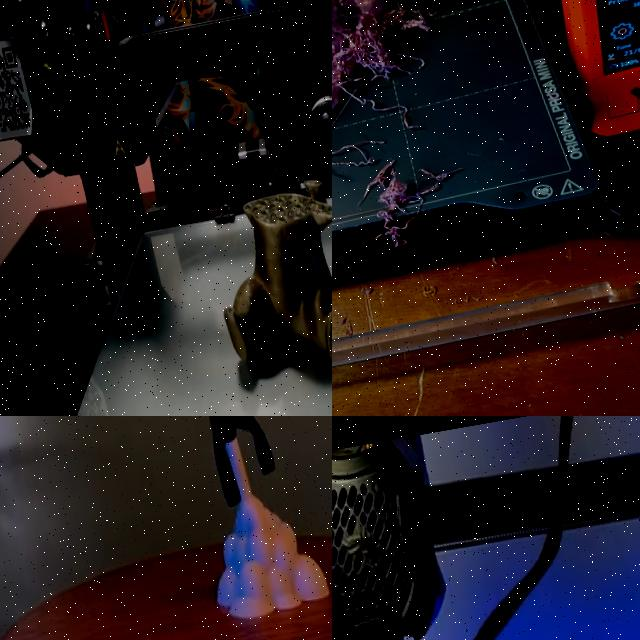spaghetti: (332, 0, 474, 208), (358, 152, 452, 274)
